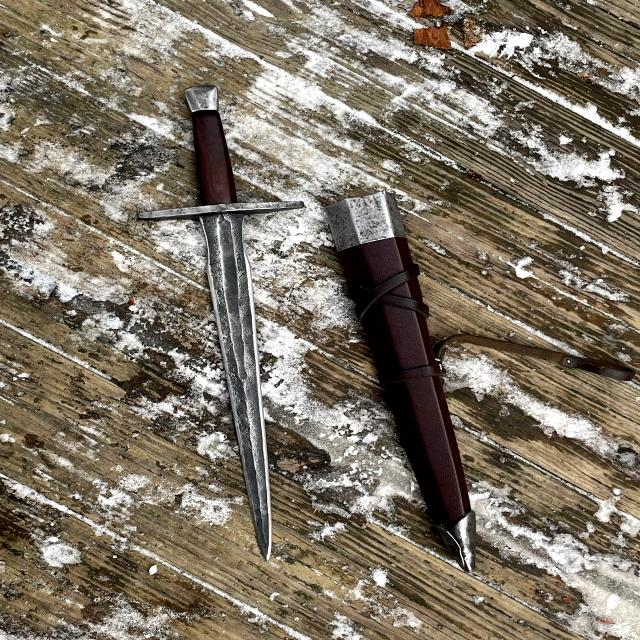short sword: (128, 75, 498, 587)
